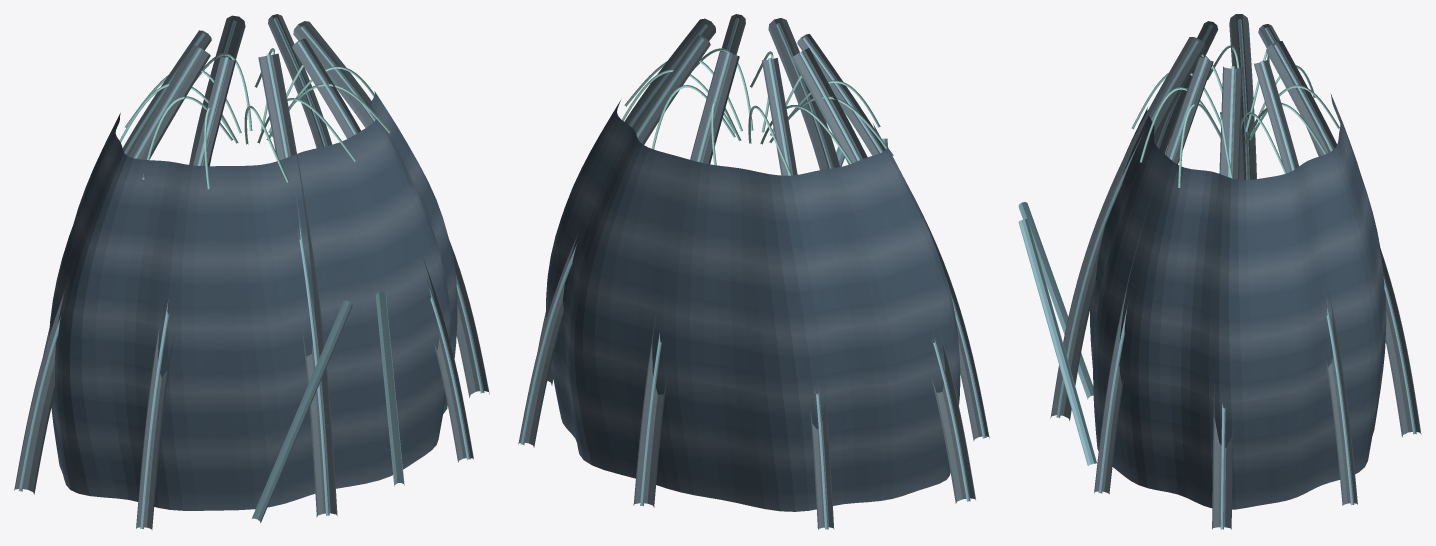
File: hexcore_destination_05.glb
3 views of the same model, side by side, from view 1: azimuth 30°, elevation 25°; view 2: azimuth 150°, elevation 25°; view 3: azimuth 270°, elevation 25° (orthographic). The views are drawn at different scales.
Parts seen in each view (by area): view 1: world; view 2: world; view 3: world.
Boxes of the visible parts, left/top/right/bottom form: world: left=14, top=14, right=489, bottom=529; world: left=518, top=14, right=989, bottom=529; world: left=1018, top=14, right=1421, bottom=529.
Bounding box in the file's own units: 33.16 × 28.8 × 26.69.
